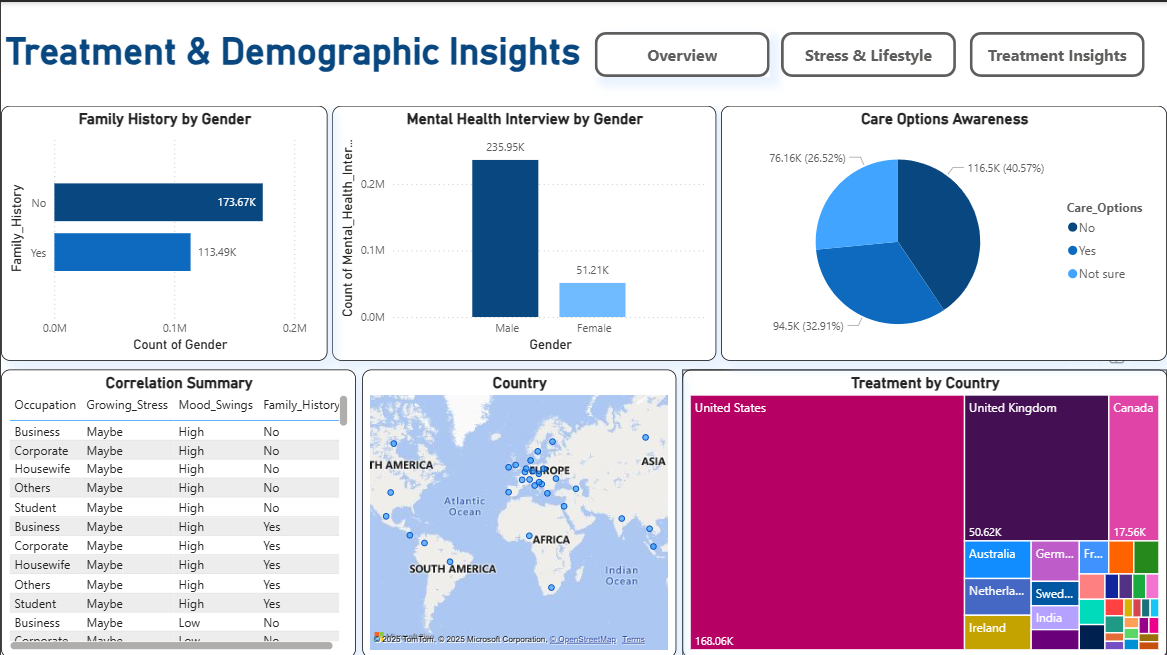

What the dashboard file says about the page in this screenshot:
{"tool":"powerbi","page":{"name":"Mental Health Insights","canvas":[1280,720],"ordinal":4},"visuals":[{"type":"columnChart","title":"Mental Health Interview by Gender","fields":{"Category":["Mental Health Dataset (2).Gender"],"Y":["CountNonNull(Mental Health Dataset (2).Mental_Health_Interview)"]},"box":[363.6,113.9,421.3,279.9],"z":0},{"type":"clusteredBarChart","title":"Family History by Gender","fields":{"Category":["Mental Health Dataset (2).Family_History"],"Y":["CountNonNull(Mental Health Dataset (2).Gender)"]},"box":[0,113.9,358.1,279.9],"z":1000},{"type":"treemap","title":"Treatment by Country","fields":{"Details":["Mental Health Dataset (2).Country"],"Values":["CountNonNull(Mental Health Dataset (2).Treatment)"]},"box":[747.9,403.4,532.4,317],"z":2000},{"type":"pieChart","title":"Care Options Awareness","fields":{"Category":["Mental Health Dataset (2).Care_Options"],"Y":["CountNonNull(Mental Health Dataset (2).Care_Options)"]},"box":[790.4,113.9,489.9,279.9],"z":3000},{"type":"tableEx","title":"Correlation Summary","fields":{"Values":["Mental Health Dataset (2).Occupation","Mental Health Dataset (2).Growing_Stress","Mental Health Dataset (2).Mood_Swings","Mental Health Dataset (2).Family_History"]},"box":[0,403.4,389.7,317],"z":4000},{"type":"map","fields":{"Category":["Mental Health Dataset (2).Country"]},"box":[396.6,403.4,344.4,317],"z":5000},{"type":"textbox","title":"Treatment & Demographic Insights","box":[0,30.2,1280.3,83.7],"z":6000},{"type":"actionButton","box":[651.8,32.9,192.1,49.4],"z":6001},{"type":"actionButton","box":[856.3,32.9,192.1,49.4],"z":6002},{"type":"actionButton","box":[1063.5,32.9,192.1,49.4],"z":6003}]}

Visuals, with their boxes in screenshot pixels (x1, y1, x2, y2), scaled from the page's 1280x720 canvas onto the 1167x655 screenshot:
"Mental Health Interview by Gender" columnChart: [332,104,716,358]
"Family History by Gender" clusteredBarChart: [0,104,326,358]
"Treatment by Country" treemap: [682,367,1166,654]
"Care Options Awareness" pieChart: [721,104,1166,358]
"Correlation Summary" tableEx: [0,367,355,654]
map - Mental Health Dataset (2).Country: [362,367,676,654]
"Treatment & Demographic Insights" textbox: [0,27,1166,104]
actionButton: [594,30,769,75]
actionButton: [781,30,956,75]
actionButton: [970,30,1145,75]
